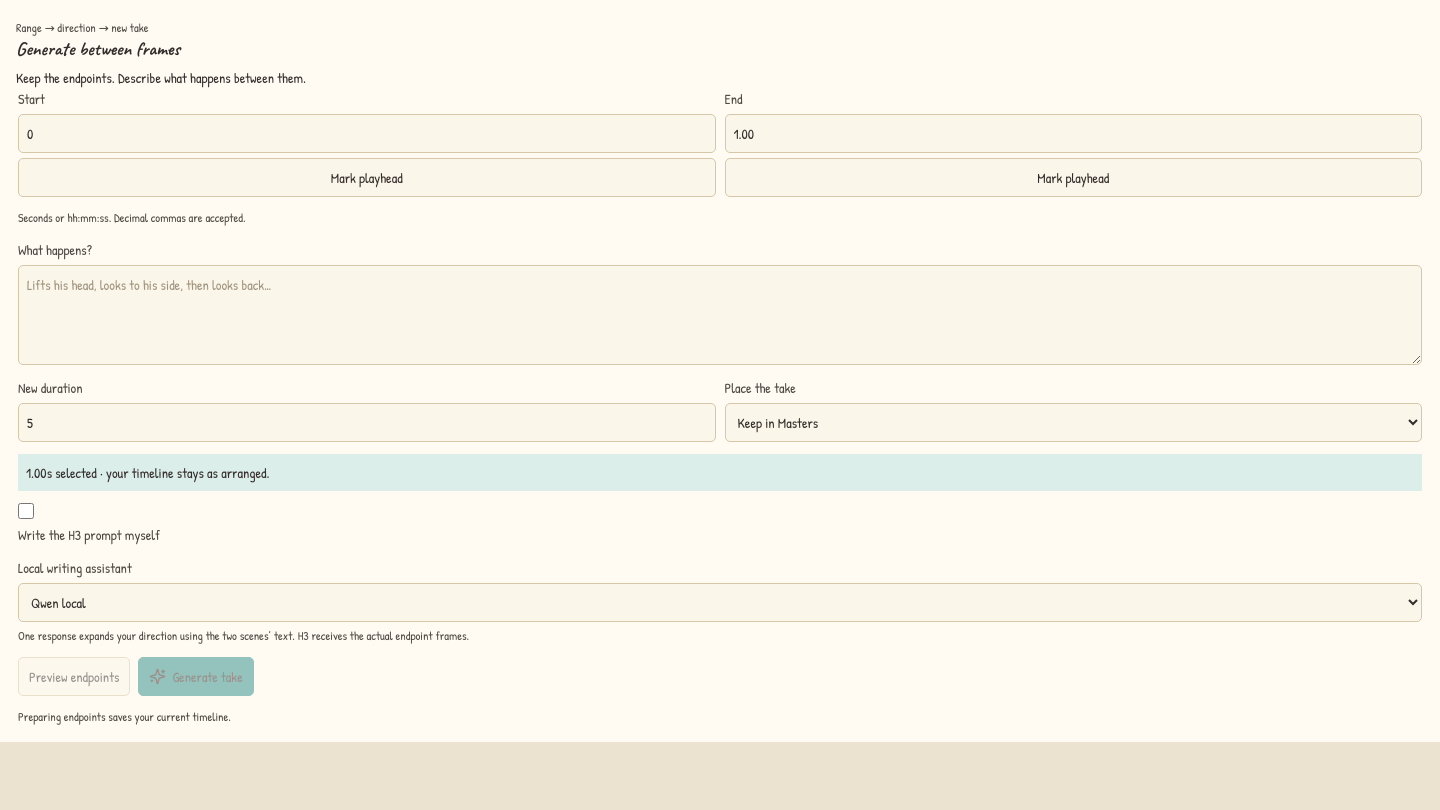
Test: producer endpoint generation › submits the selected range and placement once, then lets native code run the take
This screenshot has width=1440, height=810.
Replace the text in the field named "Generation range start" with "16,78" at point(367, 134), box [18,114,716,153]
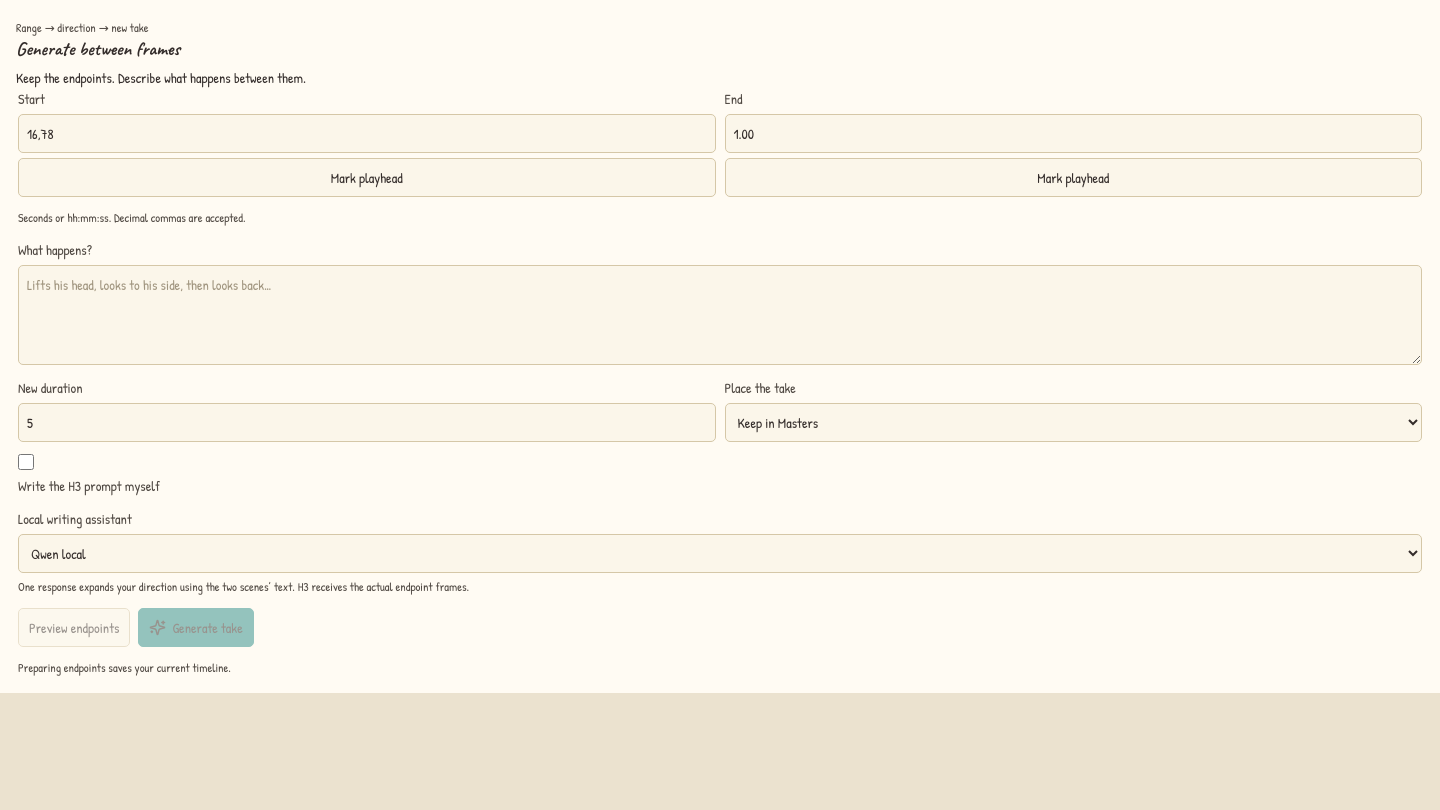
Replace the text in the field named "Generation range end" with "70,01" at point(1073, 134), box [724,114,1422,153]
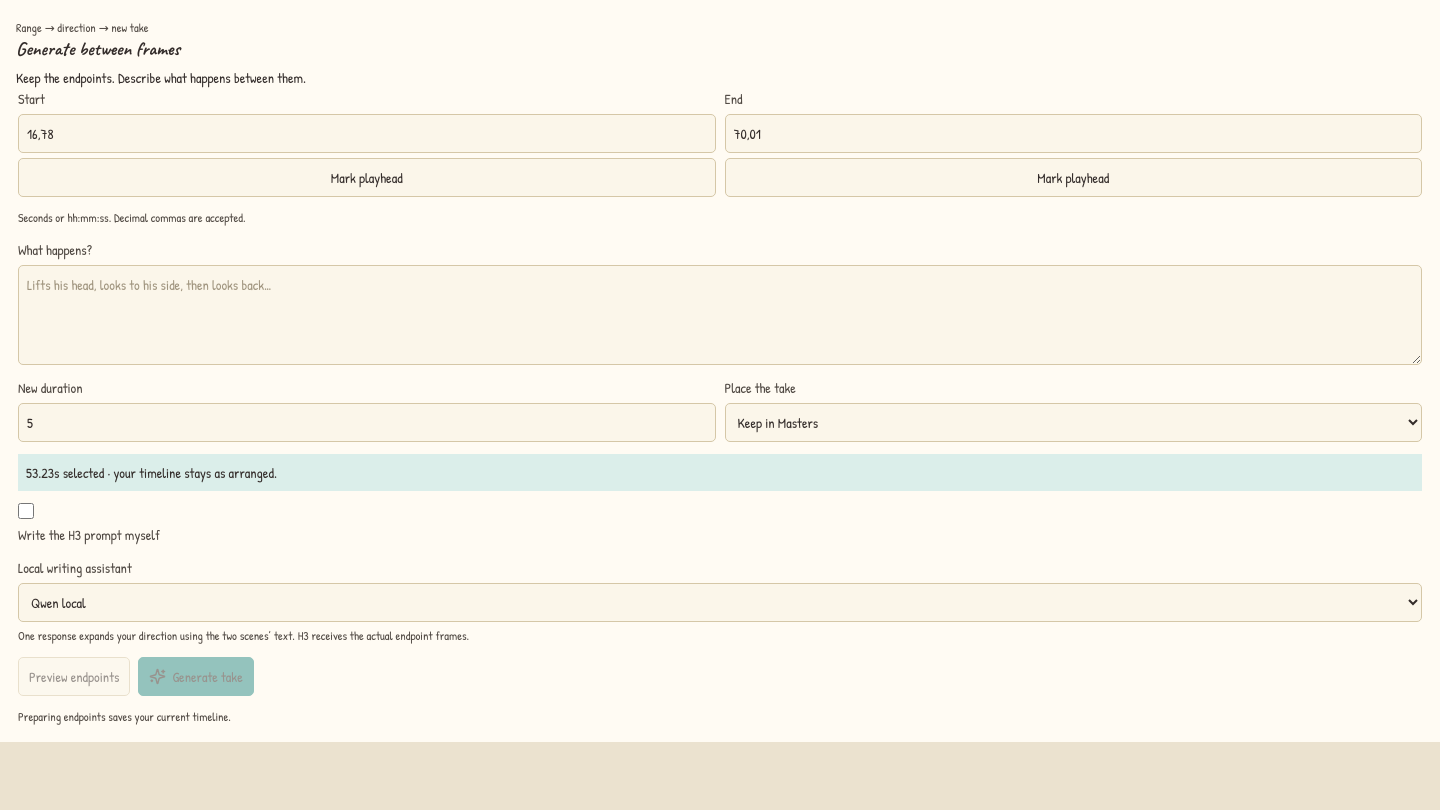
Type "Lifts his head" into the text box named "New take direction" at point(720, 315), box [18,265,1422,365]
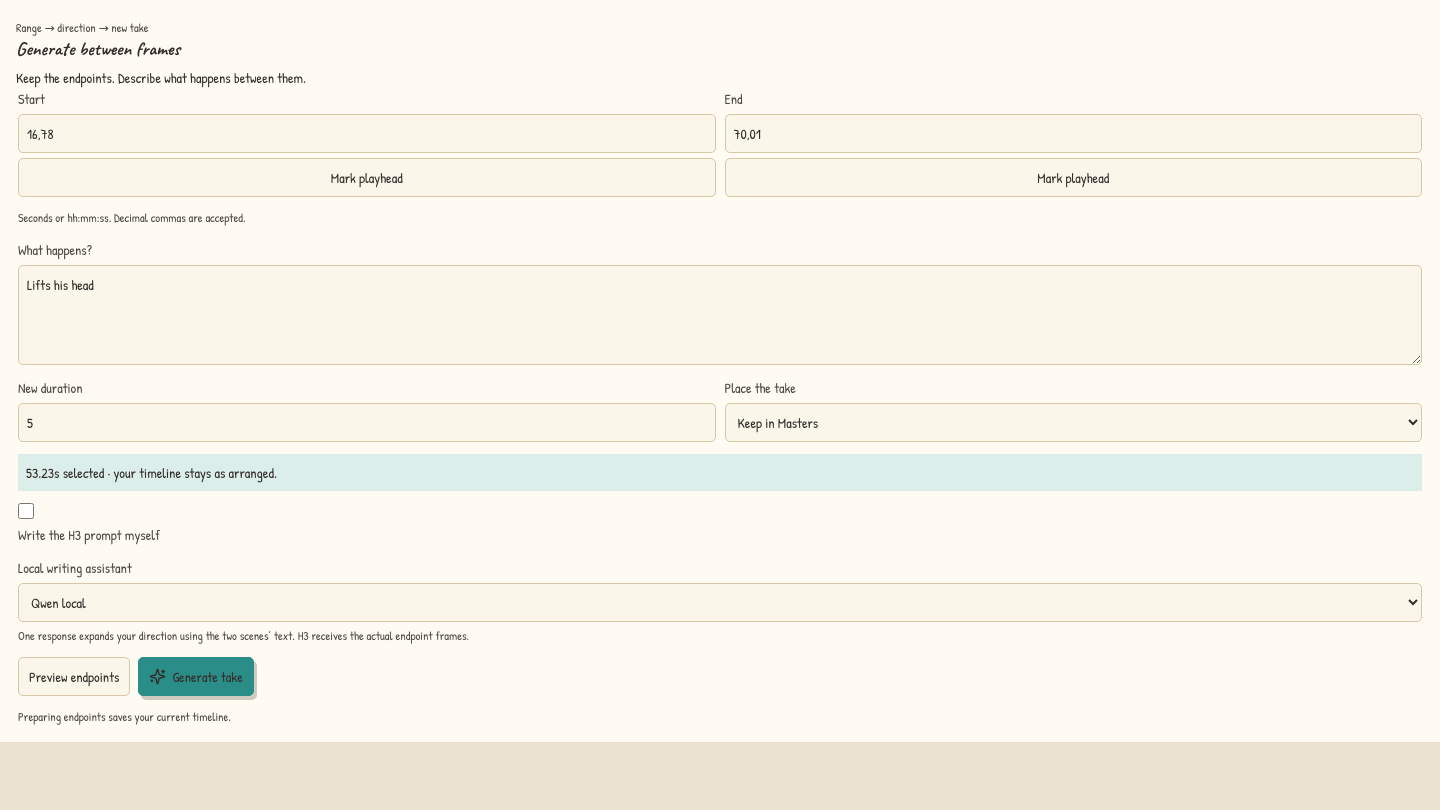
Select "Replace this range" in the dropdown named "Generated take placement" at point(1073, 423), box [724,403,1422,442]
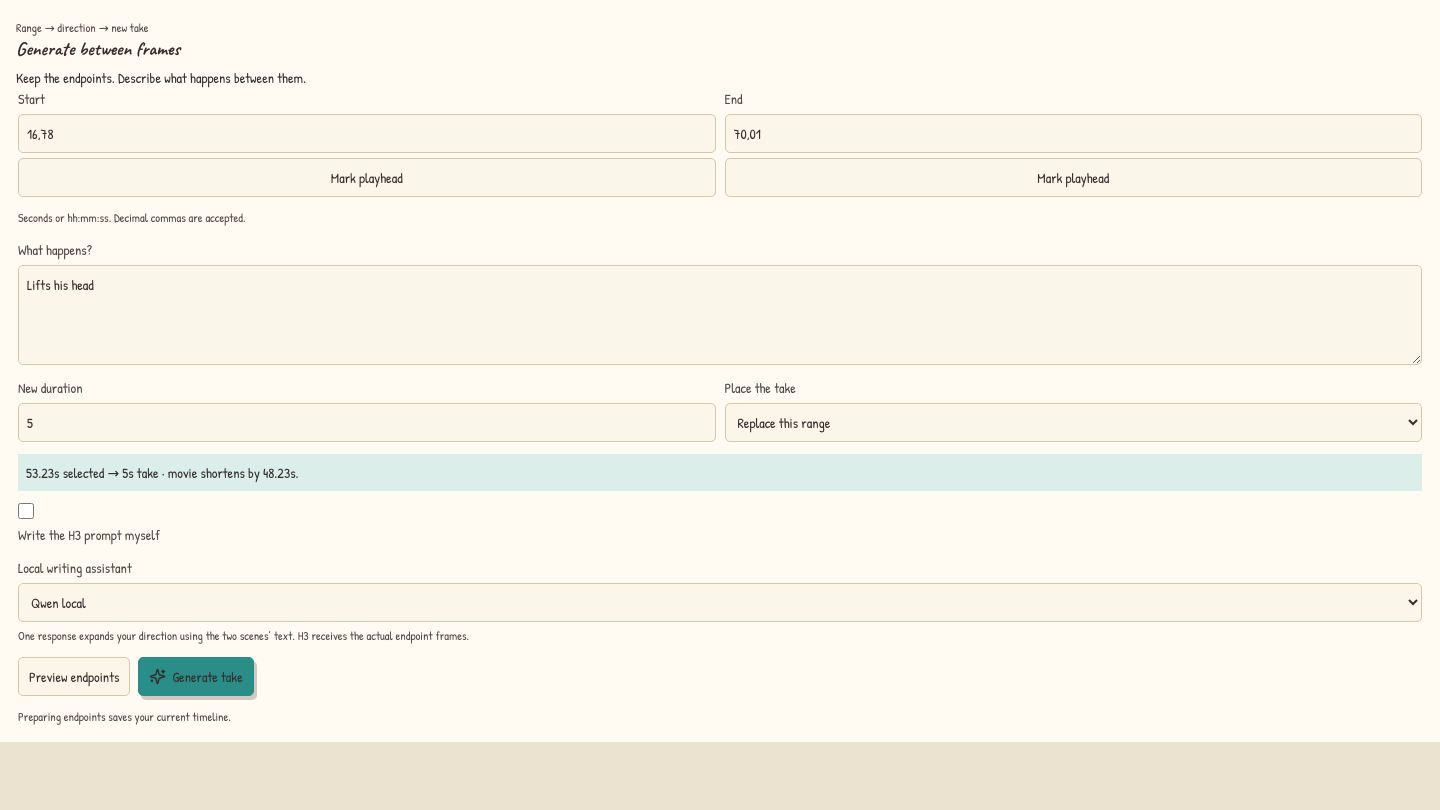
Click the button "Generate take" at point(196, 677), box [138,657,254,696]
(page scrolled)
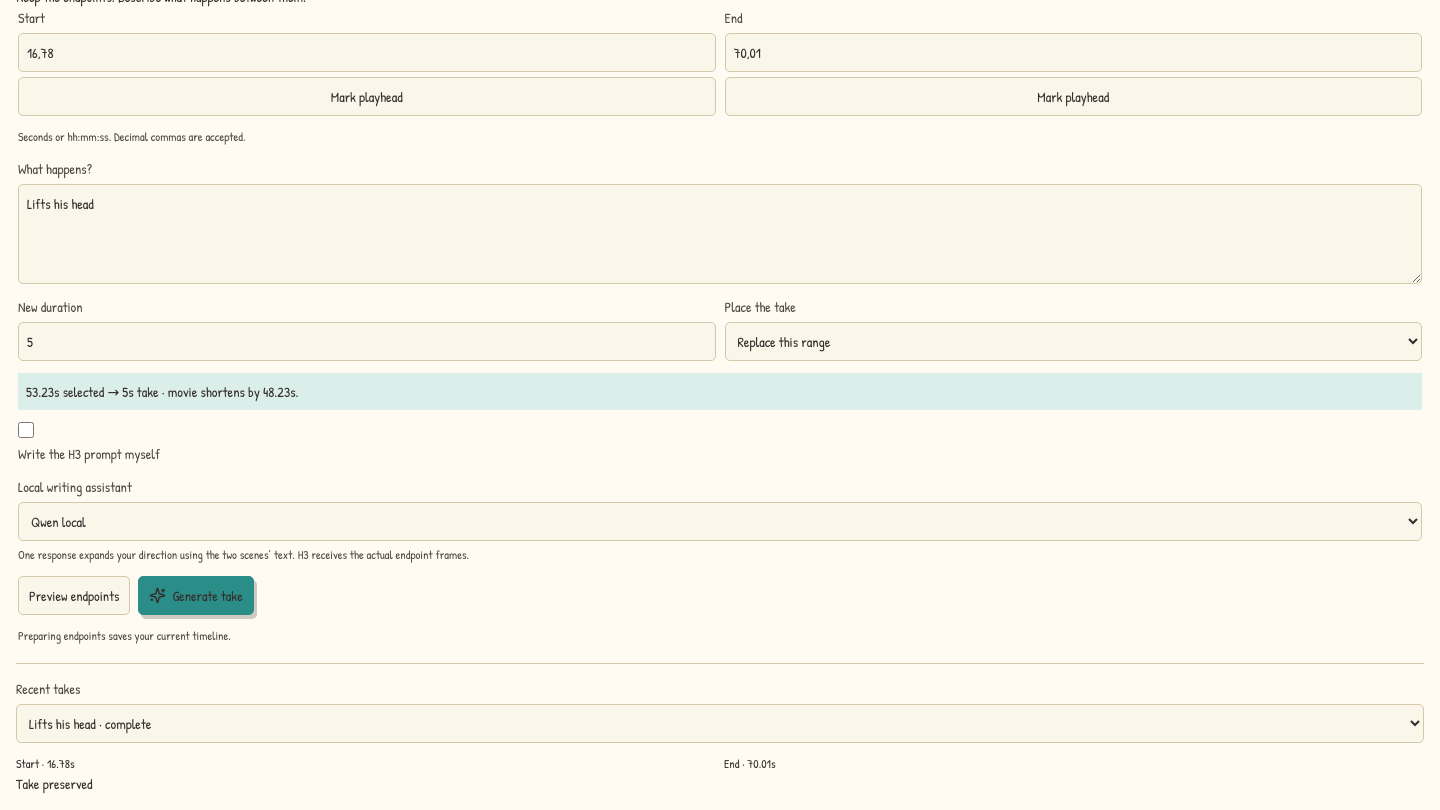
Result: the button "Generate take" is enabled at [138,576,254,615]
Result: the text "Take preserved" is shown at [16,774,93,793]
